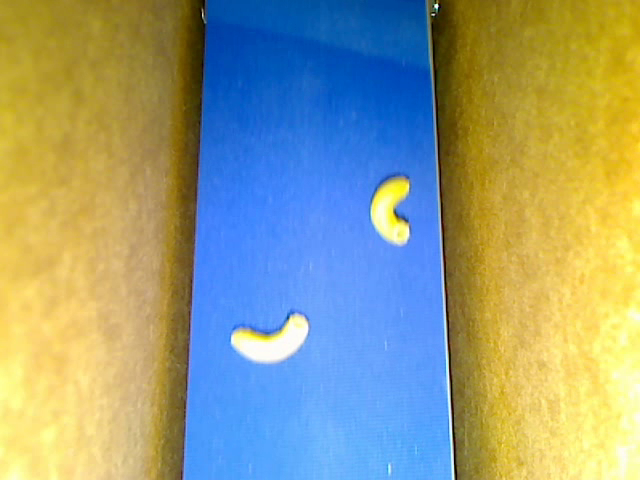elbow: (230, 313, 308, 365), (370, 174, 410, 246)
